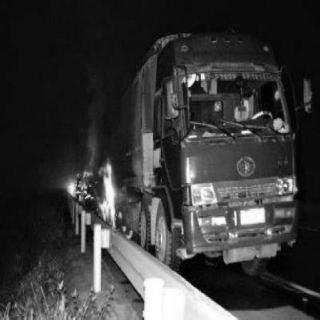Fire: (96, 160, 120, 231), (62, 172, 78, 198)
